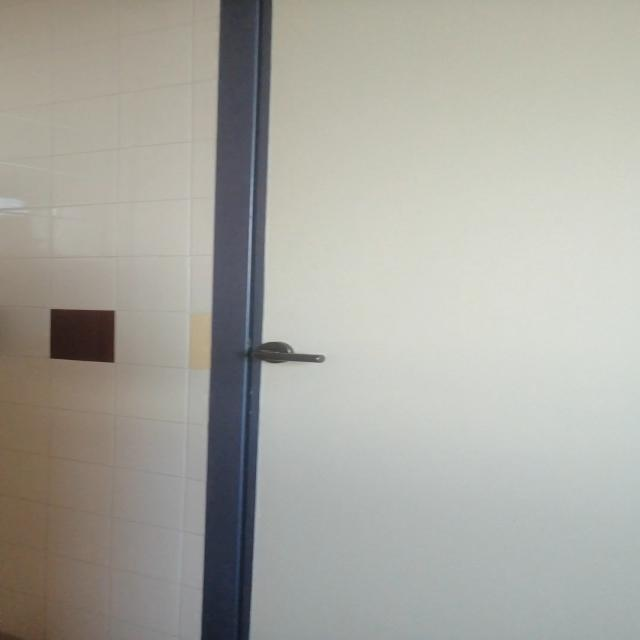door_handle: (244, 348, 328, 364)
